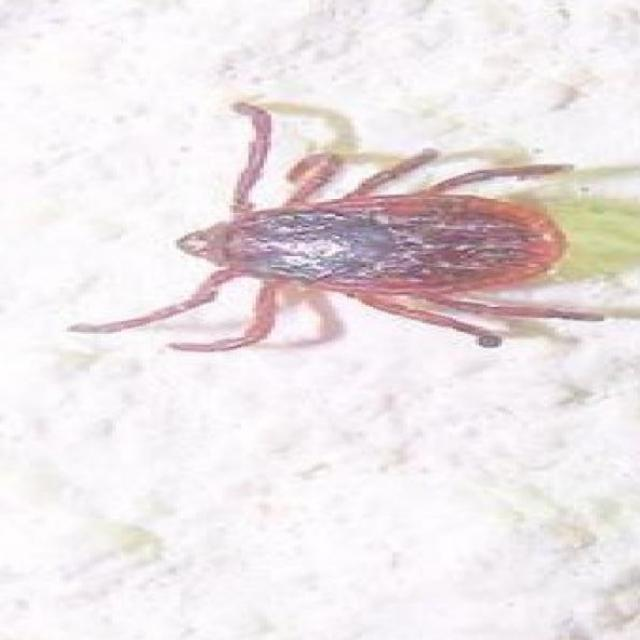Rhipicephalus Sanguineus-F: (67, 95, 608, 354)
